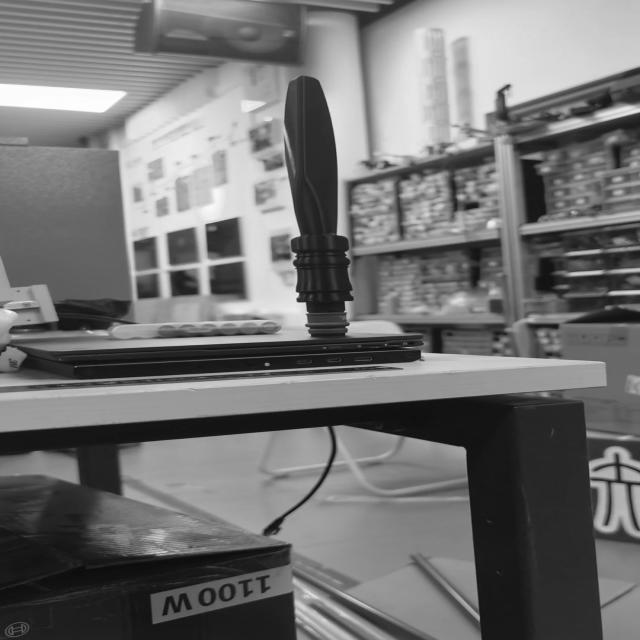base: (303, 313, 351, 337)
